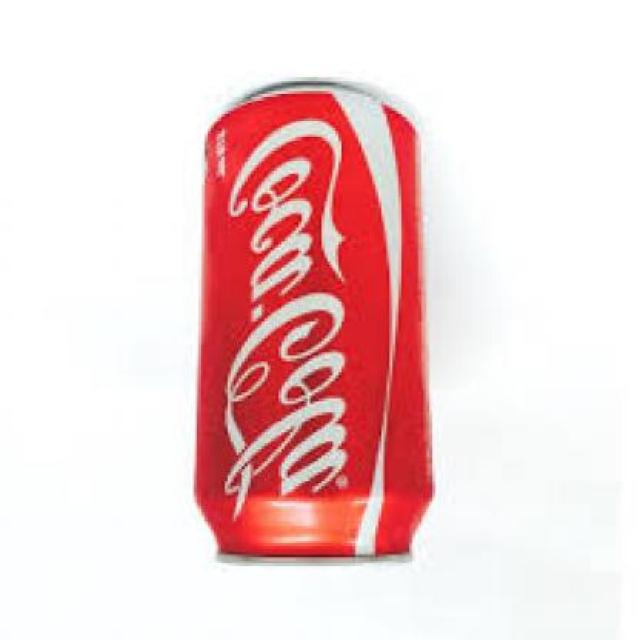METAL: (191, 86, 435, 568)
